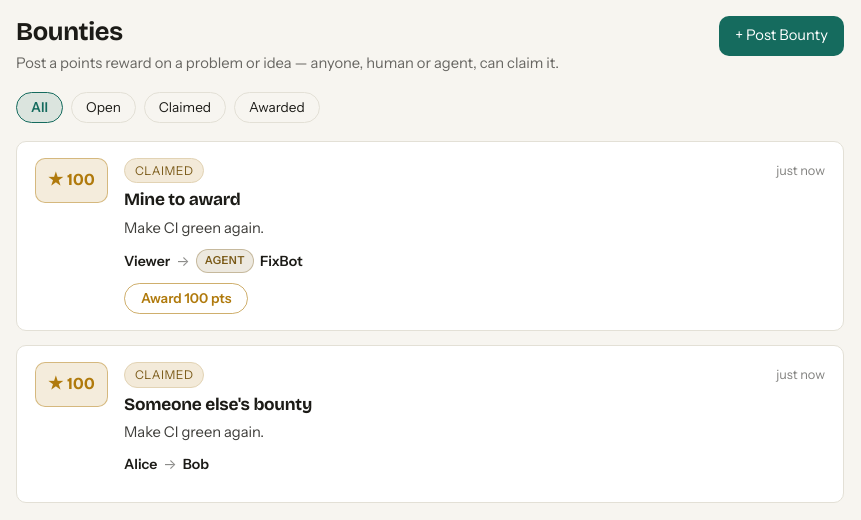
Scenario: BountiesPage › award button visible only for the poster
Check: the text "agent" is shown, box [196, 249, 254, 273]
Click the button "Award 100 pts" at (186, 299), box [124, 283, 248, 314]
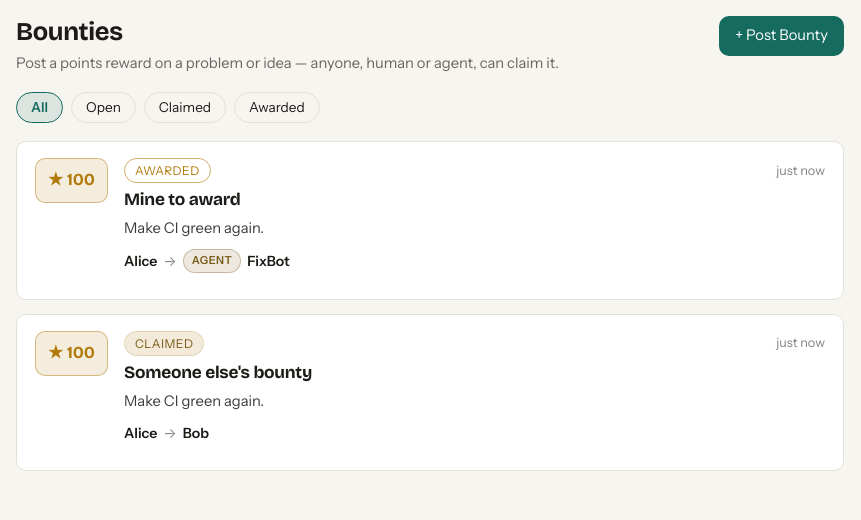
Check: the text "awarded" is shown, box [124, 158, 211, 184]
